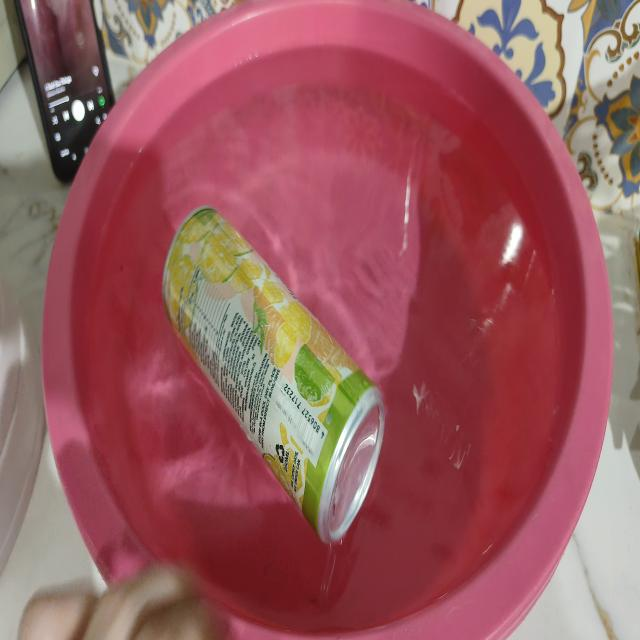Aluminum Can: (163, 208, 384, 542)
